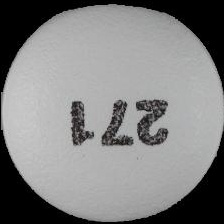50268-628: (0, 0, 224, 224)
